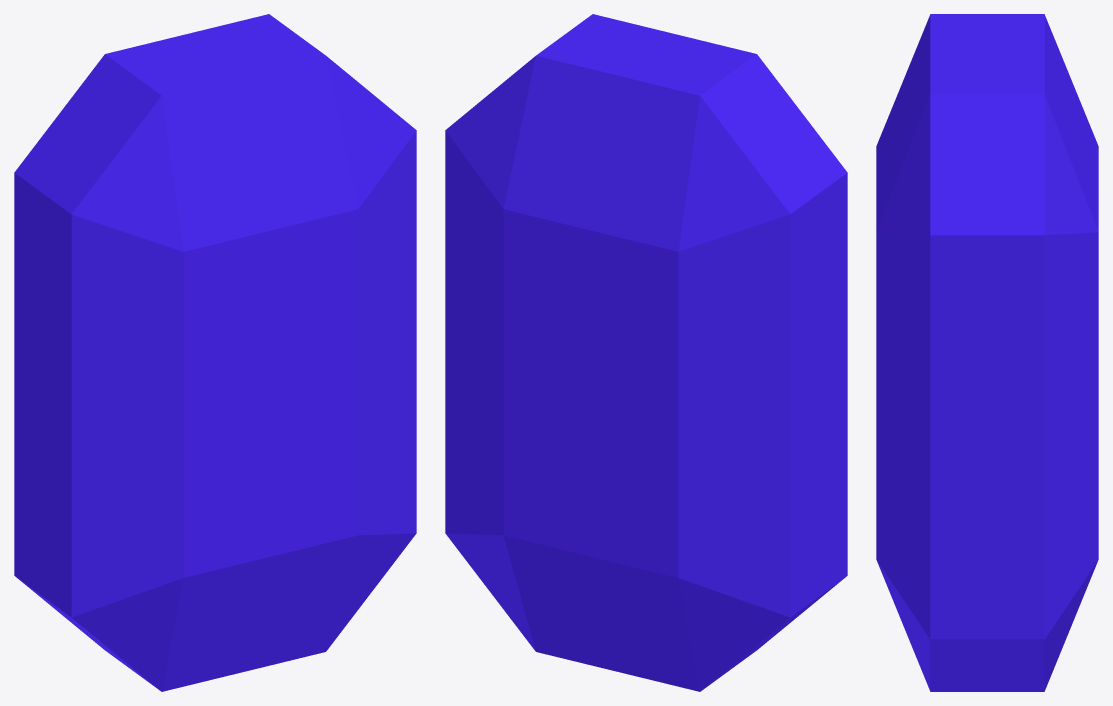
The model's file is crystal1.glb.
3 views of the same model, side by side, from view 1: azimuth 30°, elevation 25°; view 2: azimuth 150°, elevation 25°; view 3: azimuth 270°, elevation 25° (orthographic).
Visible parts, largest first — view 1: Crystal1; view 2: Crystal1; view 3: Crystal1.
Boxes of the visible parts, x1,y1,x2,y2 form: Crystal1: (14, 14, 416, 691); Crystal1: (445, 14, 847, 691); Crystal1: (876, 14, 1098, 691).
Size of the model in its own units: 45.8 by 75.64 by 25.54.
